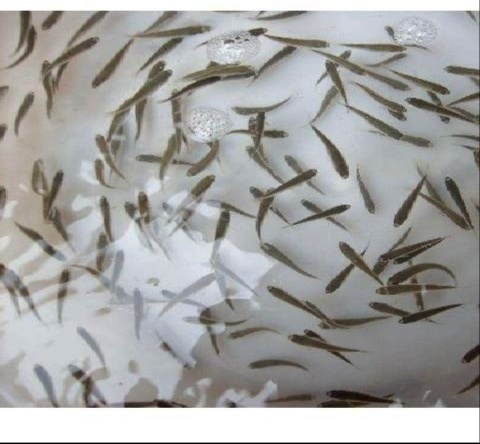fry: (252, 237, 309, 277), (21, 222, 65, 266), (160, 335, 206, 375), (86, 42, 122, 92), (349, 106, 400, 140), (372, 278, 457, 298), (316, 130, 353, 175), (131, 187, 160, 244), (428, 197, 469, 236), (126, 67, 174, 99), (387, 179, 418, 228), (320, 381, 389, 403), (223, 93, 291, 115), (398, 300, 460, 324), (266, 27, 332, 49), (164, 85, 188, 144), (259, 280, 303, 312), (435, 167, 467, 210), (334, 236, 374, 270), (272, 165, 316, 195), (169, 269, 214, 298), (61, 10, 112, 35), (51, 36, 102, 61), (345, 36, 411, 55), (140, 35, 188, 61), (330, 48, 369, 80), (13, 90, 42, 133), (171, 73, 222, 97), (174, 312, 242, 330), (126, 283, 146, 344), (186, 61, 257, 78), (317, 313, 384, 331), (116, 196, 145, 237), (309, 83, 345, 116), (71, 322, 101, 361), (224, 124, 292, 141), (181, 172, 215, 206), (22, 155, 49, 197), (363, 87, 408, 112), (51, 266, 77, 309), (152, 21, 217, 38), (242, 353, 300, 372), (352, 172, 379, 212), (246, 144, 277, 178), (259, 43, 299, 69), (403, 94, 449, 116), (16, 27, 41, 67), (129, 93, 151, 138), (218, 24, 270, 43), (375, 69, 412, 95), (36, 56, 56, 104), (29, 363, 58, 396), (182, 150, 217, 177), (204, 193, 245, 216), (90, 278, 126, 304), (21, 278, 43, 320), (108, 98, 133, 134), (367, 47, 412, 67), (403, 127, 439, 152), (323, 263, 350, 296), (212, 275, 235, 313), (256, 184, 274, 232), (266, 388, 320, 404), (92, 129, 115, 166), (312, 201, 352, 222), (43, 166, 65, 204), (383, 266, 432, 283), (438, 58, 479, 78), (89, 231, 110, 269), (11, 8, 29, 52), (93, 192, 115, 228), (211, 208, 229, 252), (253, 10, 309, 24), (158, 130, 175, 176), (418, 74, 455, 95), (204, 253, 237, 276), (322, 55, 344, 89), (142, 11, 183, 29), (225, 324, 268, 341), (279, 148, 305, 176), (171, 203, 200, 228), (105, 128, 129, 158), (250, 109, 268, 148), (304, 298, 329, 326), (421, 177, 446, 204), (64, 359, 88, 387), (0, 264, 15, 307), (36, 9, 64, 32), (429, 96, 449, 128), (372, 241, 405, 260), (283, 332, 314, 352), (127, 146, 161, 164), (456, 341, 477, 370), (89, 156, 108, 188), (454, 141, 479, 164), (245, 181, 267, 207), (111, 245, 126, 282), (301, 323, 324, 347), (299, 197, 328, 216), (143, 393, 182, 407), (457, 375, 479, 398), (451, 88, 479, 106), (454, 104, 479, 124), (406, 38, 435, 55), (140, 58, 166, 76), (362, 298, 392, 313), (452, 127, 478, 144), (366, 259, 392, 276), (159, 285, 186, 301), (0, 181, 12, 215), (88, 302, 117, 316), (386, 104, 409, 121), (397, 251, 426, 264), (160, 199, 177, 221), (52, 63, 68, 85), (383, 22, 400, 42), (461, 10, 479, 27), (0, 79, 14, 100), (389, 231, 414, 242), (0, 121, 10, 141)
